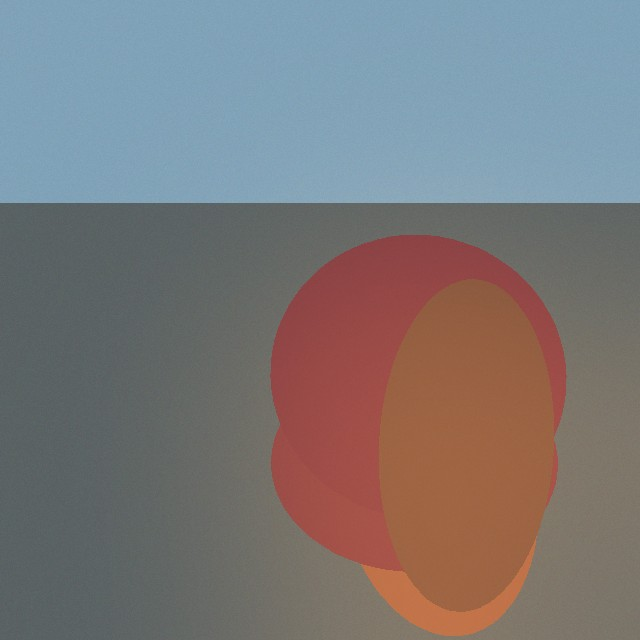fire: (292, 362, 568, 556)
